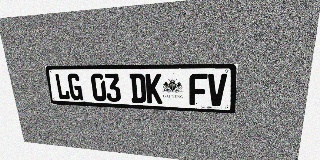0: (90, 73, 107, 101)
3: (104, 73, 121, 102)
D: (129, 74, 146, 103)
F: (189, 74, 207, 106)
G: (67, 73, 83, 100)
K: (145, 74, 162, 104)
L: (54, 73, 70, 100)
V: (207, 74, 227, 106)
